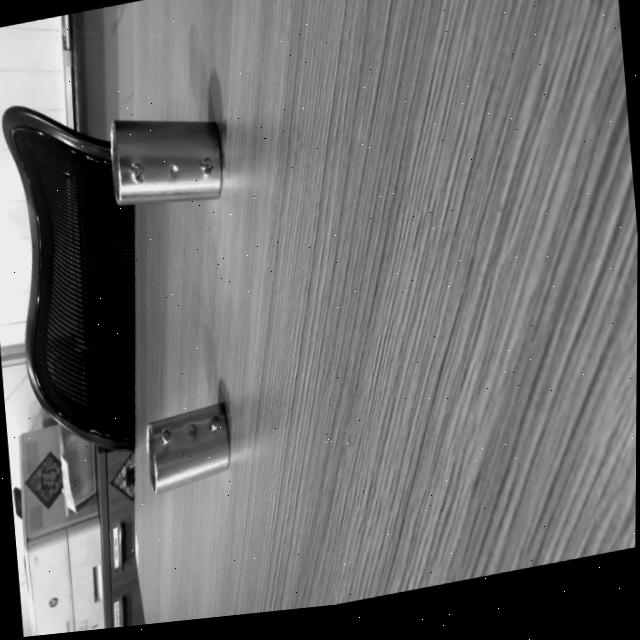Co_Lon: (108, 115, 222, 205)
Co_Nho: (133, 402, 240, 495)
